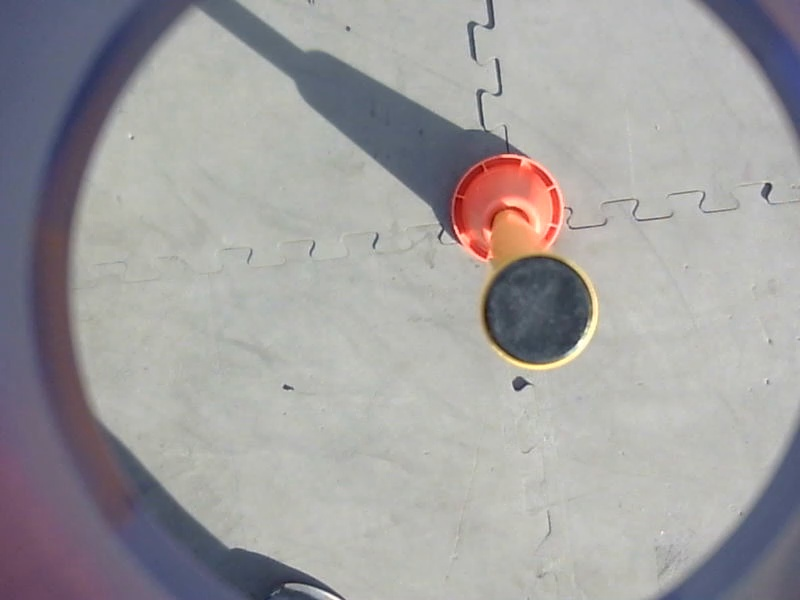tip: (476, 247, 602, 373)
